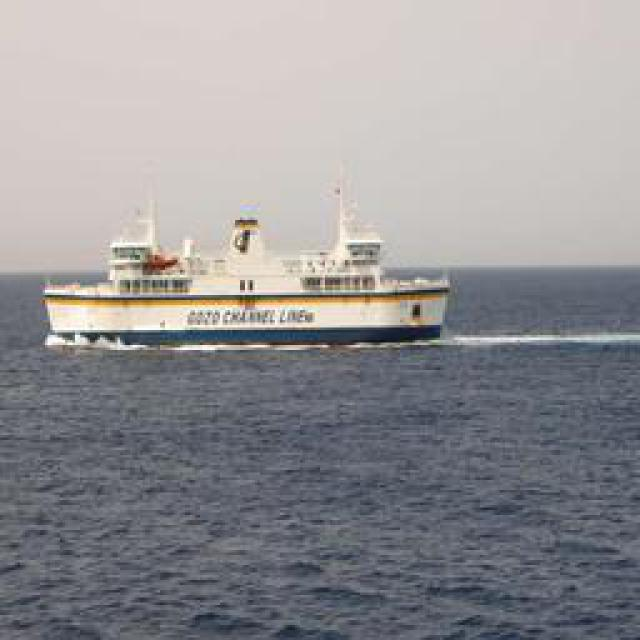Ship: (41, 179, 449, 349)
